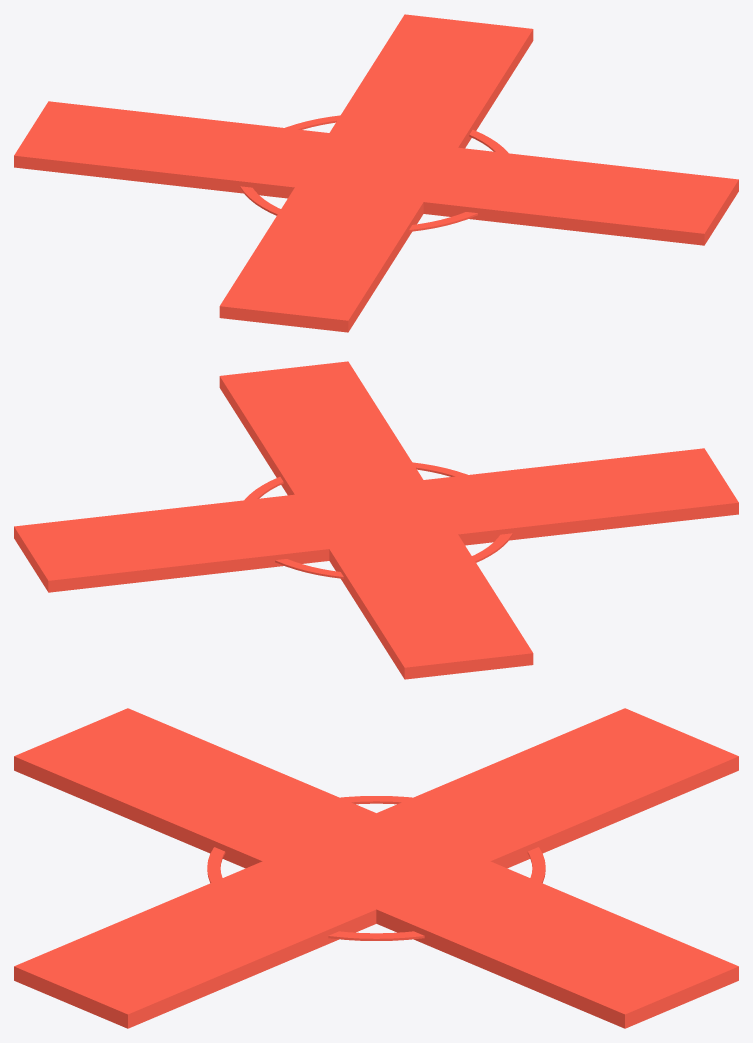
The model's file is VXRT_Indicator_Cancel_v2.glb.
3 renders of one model, top to bottom at view 1: azimuth 30°, elevation 25°; view 2: azimuth 150°, elevation 25°; view 3: azimuth 270°, elevation 25°, orthographic. The views are drawn at different scales.
Parts seen in each view (by area): view 1: Rectangle002, Tube001; view 2: Rectangle002, Tube001; view 3: Rectangle002, Tube001.
Boxes of the visible parts, x1,y1,x2,y2 form: Rectangle002: (14, 14, 738, 332); Tube001: (240, 115, 508, 231); Rectangle002: (14, 361, 738, 679); Tube001: (244, 462, 512, 578); Rectangle002: (14, 708, 738, 1028); Tube001: (207, 796, 545, 940).
Bounding box in the file's own units: 4.38e-06 × 9.55e-08 × 4.38e-06.
